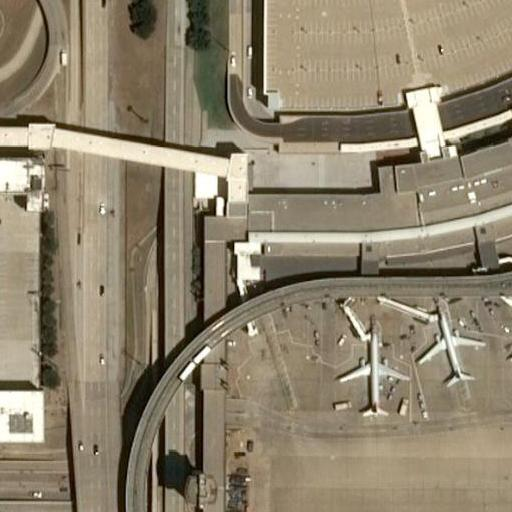Aircraft: (328, 334, 408, 420), (415, 311, 484, 391), (502, 307, 512, 394)
